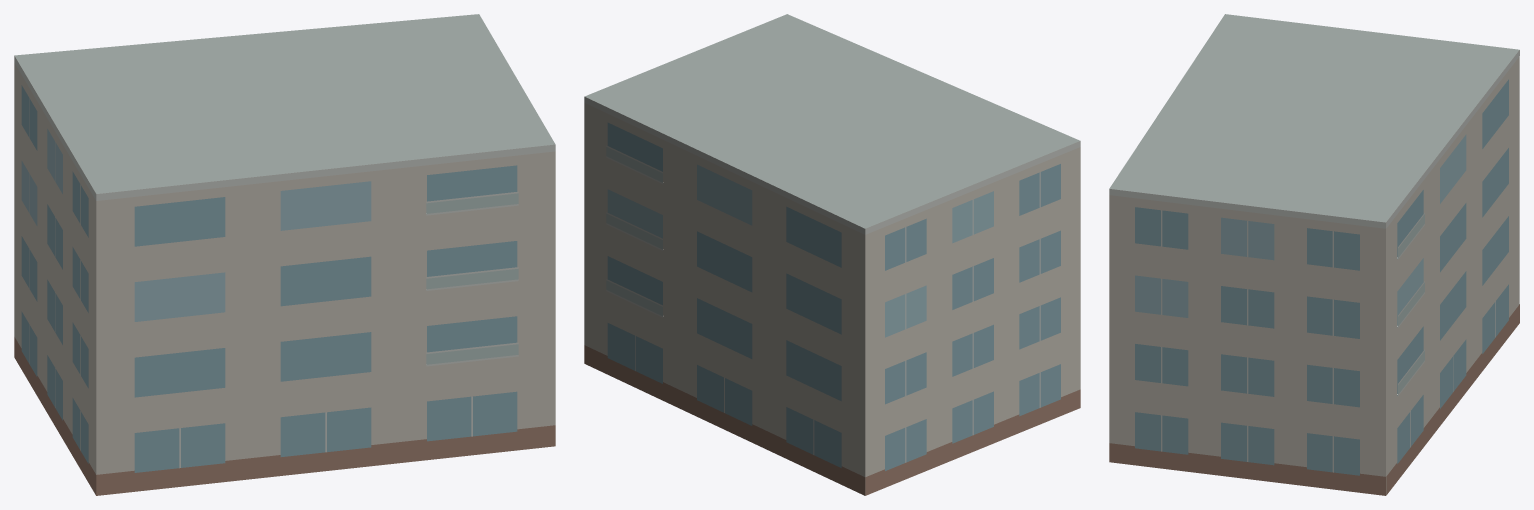
File: survey-upis-32692322.glb
3 renders of one model, left to right at view 1: azimuth 30°, elevation 25°; view 2: azimuth 150°, elevation 25°; view 3: azimuth 270°, elevation 25°, orthographic. The views are drawn at different scales.
Parts seen in each view (by area): view 1: survey-upis-32692322.tmp; view 2: survey-upis-32692322.tmp; view 3: survey-upis-32692322.tmp.
Boxes of the visible parts, x1,y1,x2,y2 form: survey-upis-32692322.tmp: (14,14,555,495); survey-upis-32692322.tmp: (584,14,1080,495); survey-upis-32692322.tmp: (1109,14,1519,495).
Bounding box in the file's own units: 17.43 × 10.65 × 14.51.
